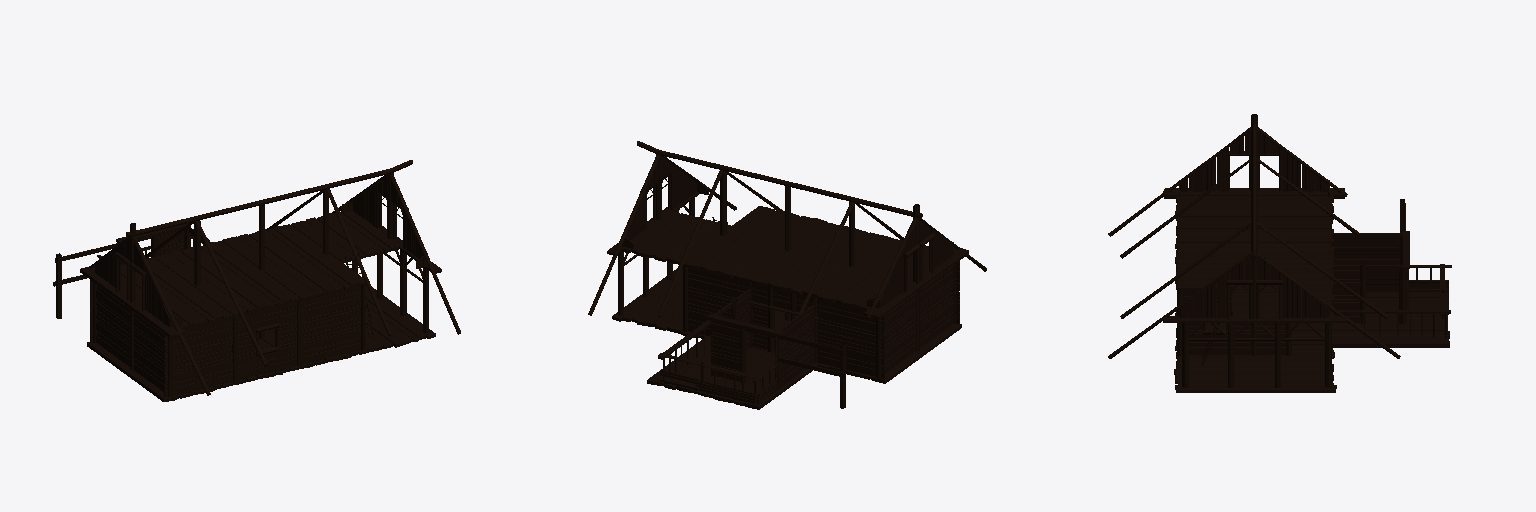
The model's file is Casa04.obj.
3 renders of one model, left to right at view 1: azimuth 30°, elevation 25°; view 2: azimuth 150°, elevation 25°; view 3: azimuth 270°, elevation 25°, orthographic.
Visible parts, largest first — view 1: Cylinder.007_Cylinder.001; view 2: Cylinder.007_Cylinder.001; view 3: Cylinder.007_Cylinder.001.
Part boxes in pixels (bbox=[...]): Cylinder.007_Cylinder.001: bbox=[53, 160, 460, 401]; Cylinder.007_Cylinder.001: bbox=[588, 141, 986, 409]; Cylinder.007_Cylinder.001: bbox=[1108, 114, 1451, 392].
Size of the model in its own units: 17.82 by 8.81 by 18.5.